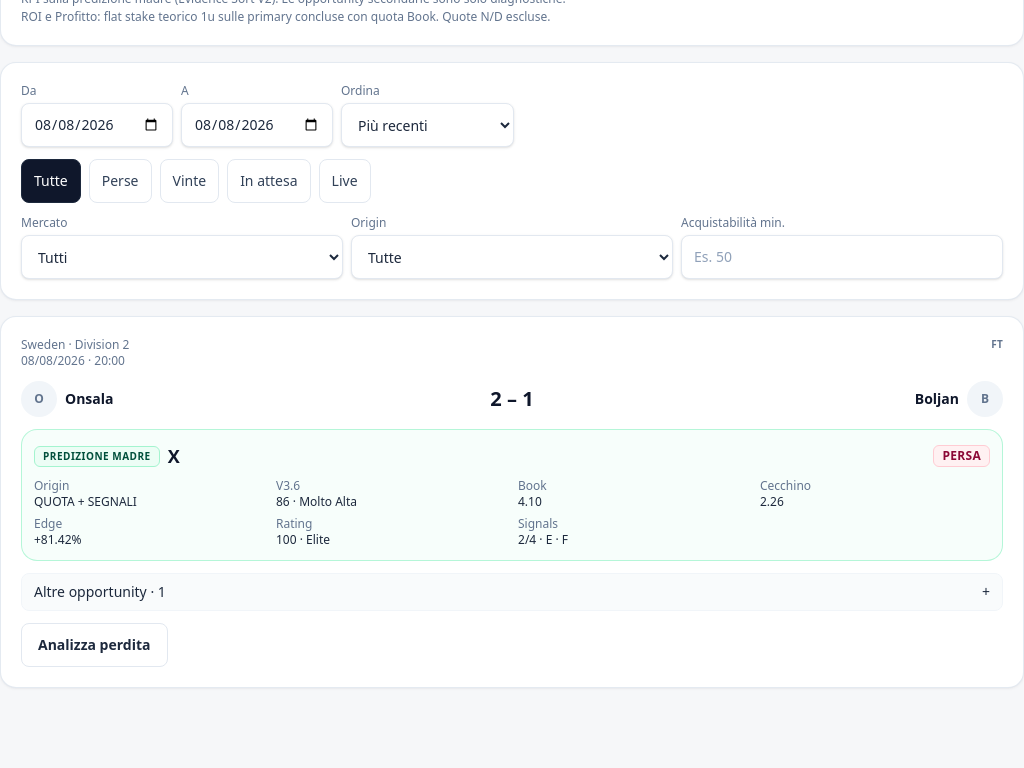
it: BetBuilderPage Results BET-RESULTS-01 › 16-17. Analizza perdita apre drawer
(page scrolled)
Click the button with test id "result-analyze-cta" at (94, 645), box left=21, top=623, right=168, bottom=667
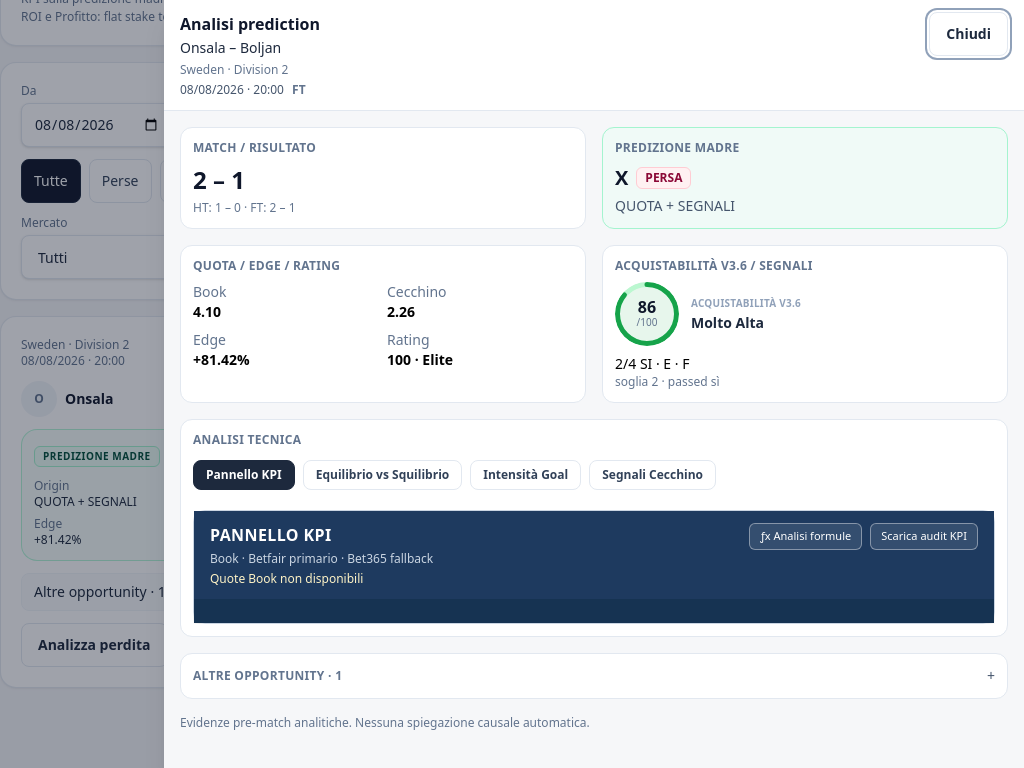
Now the dialog with test id "bet-builder-result-drawer" is shown
Now the element with test id "drawer-primary" is shown, box left=602, top=127, right=1008, bottom=229
Now the element with test id "drawer-match" is shown, box left=180, top=127, right=586, bottom=229
